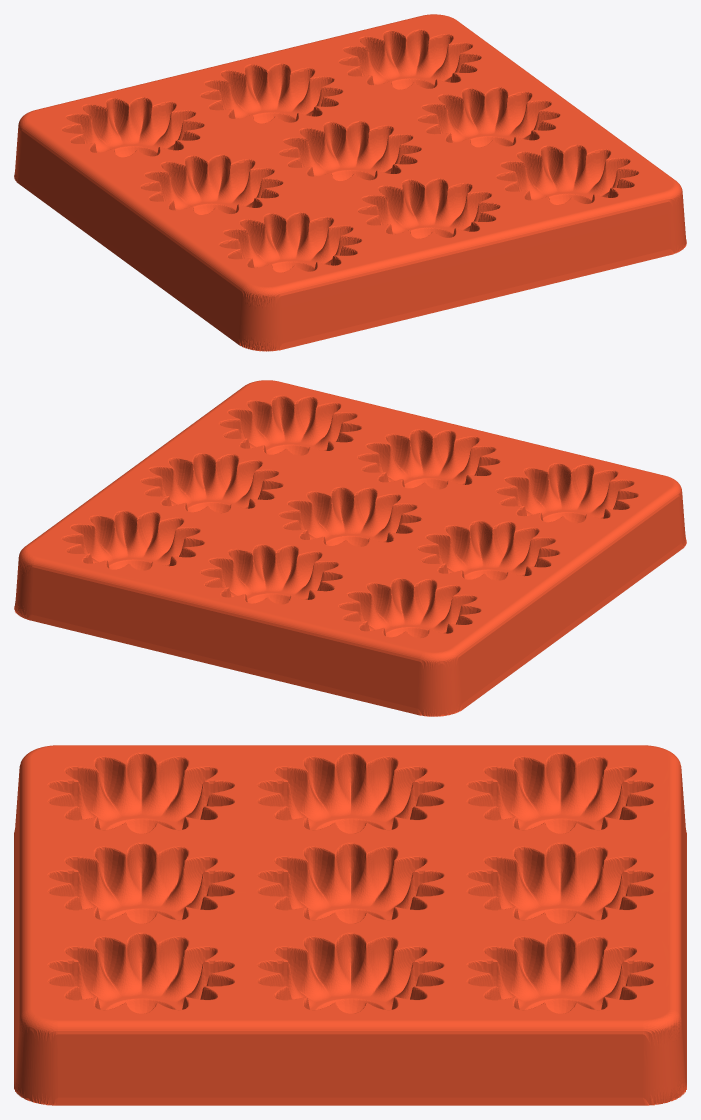
Rendered from mold.glb.
The picture shows the model from 3 angles, top to bottom: view 1: azimuth 30°, elevation 25°; view 2: azimuth 150°, elevation 25°; view 3: azimuth 270°, elevation 25°; orthographic projection. The views are drawn at different scales.
Visible parts, largest first — view 1: geometry_0; view 2: geometry_0; view 3: geometry_0.
Part boxes in pixels (x1,y1,x2,y2): geometry_0: (14, 14, 686, 351); geometry_0: (14, 380, 686, 716); geometry_0: (14, 745, 686, 1105).
Bounding box in the file's own units: 0.1387 × 0.0175 × 0.1366.
